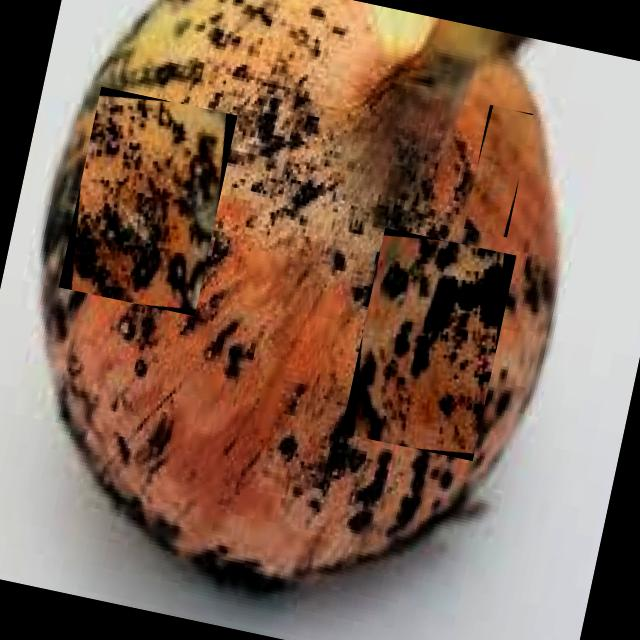healthy: (463, 105, 532, 237)
mould: (58, 87, 237, 316), (341, 228, 516, 460)
